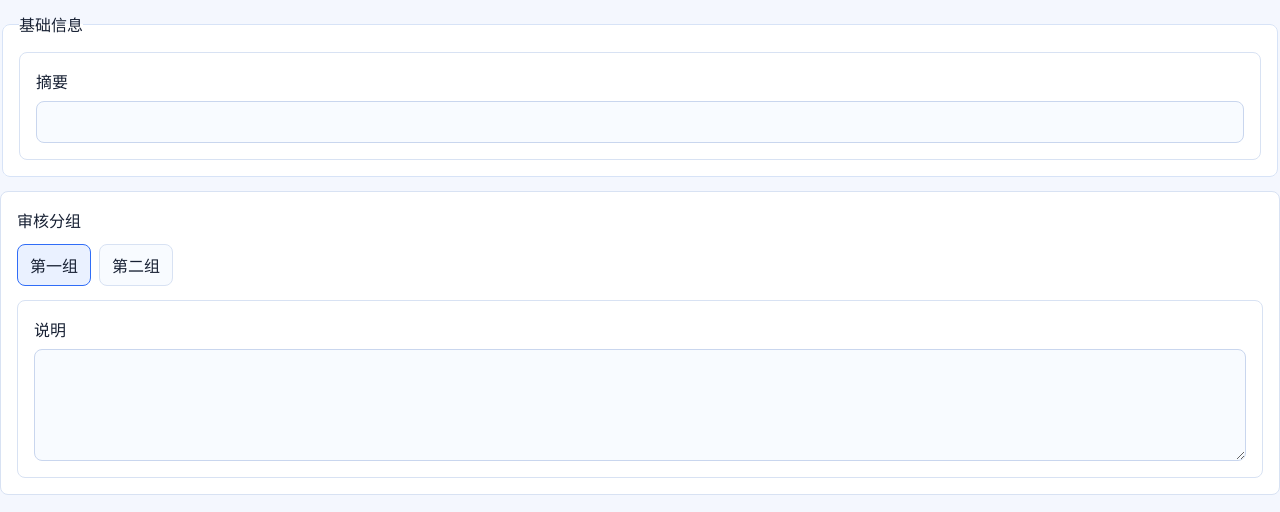
Test: SchemaRenderer › group 递归渲染内部字段，tabs 仅渲染当前激活分组
Expected: the text "基础信息" is shown, top-left (19, 12), bottom-right (83, 36)
Expected: the field labelled "摘要" is shown, top-left (36, 101), bottom-right (1244, 143)
Click the tab "第二组" at (136,265), box top-left (99, 244), bottom-right (173, 286)
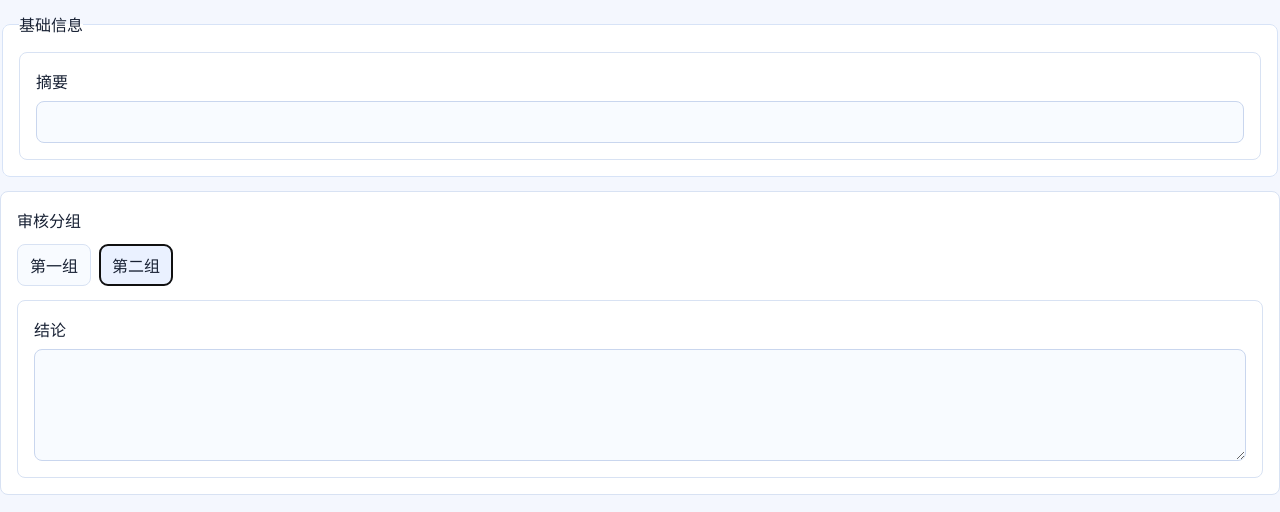
Expected: the text box labelled "结论" is shown, top-left (34, 349), bottom-right (1246, 461)
Now the text labelled "说明" is gone
